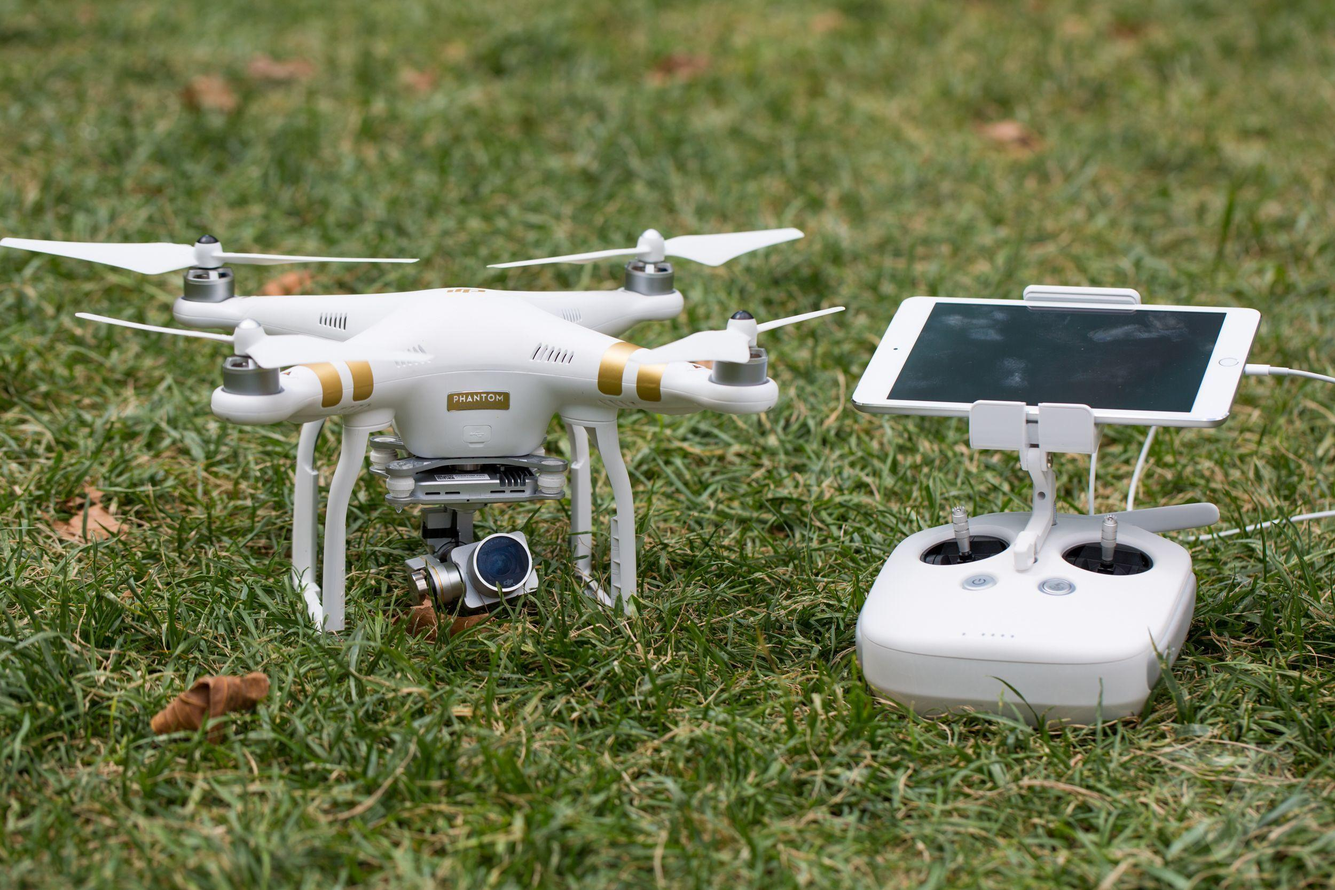Drone: (16, 206, 806, 657)
